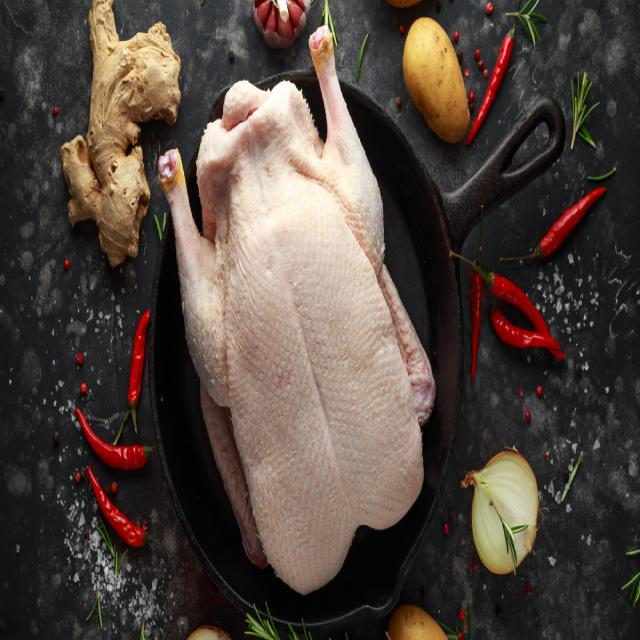duck: (158, 27, 435, 593)
